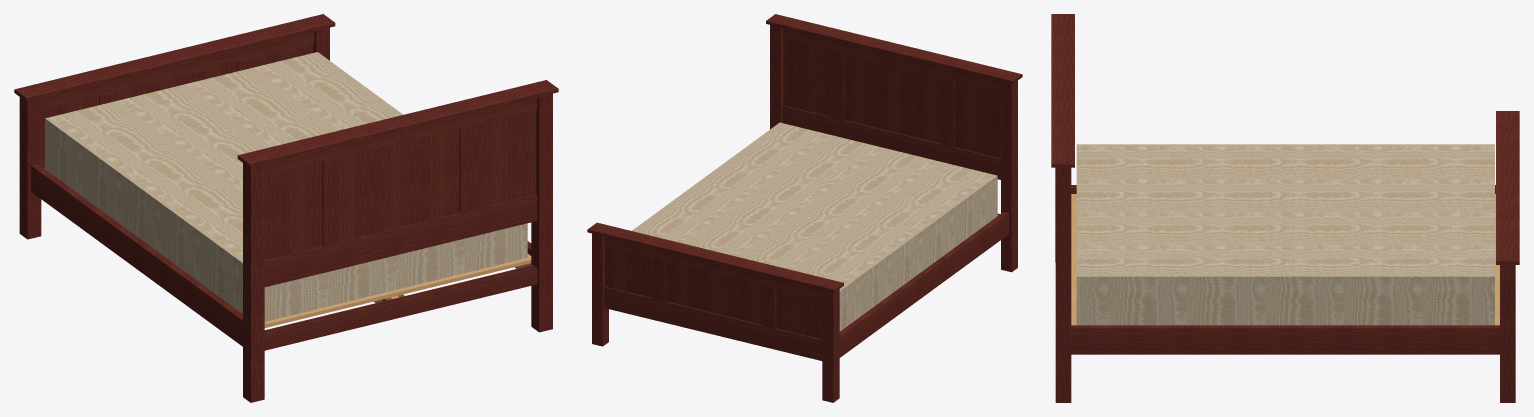
3 views of the same model, side by side, from view 1: azimuth 30°, elevation 25°; view 2: azimuth 150°, elevation 25°; view 3: azimuth 270°, elevation 25° (orthographic). The views are drawn at different scales.
Visible parts, largest first — view 1: mesh1_mesh1-geometry, mesh66_mesh66-geometry, mesh52_mesh52-geometry, mesh54_mesh54-geometry, mesh98_mesh98-geometry, mesh56_mesh56-geometry, mesh48_mesh48-geometry, mesh50_mesh50-geometry, mesh42_mesh42-geometry, mesh75_mesh75-geometry, mesh61_mesh61-geometry, mesh93_mesh93-geometry (+6 smaller); view 2: mesh1_mesh1-geometry, mesh52_mesh52-geometry, mesh91_mesh91-geometry, mesh66_mesh66-geometry, mesh98_mesh98-geometry, mesh54_mesh54-geometry, mesh87_mesh87-geometry, mesh93_mesh93-geometry, mesh48_mesh48-geometry, mesh75_mesh75-geometry, mesh42_mesh42-geometry, mesh50_mesh50-geometry (+8 smaller); view 3: mesh1_mesh1-geometry, mesh98_mesh98-geometry, mesh61_mesh61-geometry, mesh42_mesh42-geometry, mesh75_mesh75-geometry, mesh93_mesh93-geometry, mesh8_mesh8-geometry.
Part boxes in pixels (x1=…): mesh1_mesh1-geometry: x1=45, y1=52, x2=527, y2=321; mesh66_mesh66-geometry: x1=41, y1=31, x2=537, y2=350; mesh52_mesh52-geometry: x1=339, y1=129, x2=459, y2=241; mesh54_mesh54-geometry: x1=264, y1=194, x2=537, y2=287; mesh98_mesh98-geometry: x1=31, y1=164, x2=531, y2=346; mesh56_mesh56-geometry: x1=243, y1=163, x2=264, y2=402; mesh48_mesh48-geometry: x1=476, y1=110, x2=536, y2=208; mesh50_mesh50-geometry: x1=264, y1=162, x2=322, y2=259; mesh42_mesh42-geometry: x1=237, y1=80, x2=558, y2=167; mesh75_mesh75-geometry: x1=14, y1=14, x2=335, y2=101; mesh61_mesh61-geometry: x1=531, y1=93, x2=552, y2=332; mesh93_mesh93-geometry: x1=19, y1=27, x2=329, y2=239; mesh1_mesh1-geometry: x1=632, y1=122, x2=997, y2=331; mesh52_mesh52-geometry: x1=844, y1=53, x2=941, y2=143; mesh91_mesh91-geometry: x1=604, y1=286, x2=822, y2=360; mesh66_mesh66-geometry: x1=604, y1=28, x2=1000, y2=299; mesh98_mesh98-geometry: x1=839, y1=212, x2=1008, y2=357; mesh54_mesh54-geometry: x1=782, y1=105, x2=1000, y2=179; mesh87_mesh87-geometry: x1=666, y1=262, x2=762, y2=324; mesh93_mesh93-geometry: x1=592, y1=233, x2=839, y2=402; mesh48_mesh48-geometry: x1=783, y1=38, x2=831, y2=116; mesh75_mesh75-geometry: x1=587, y1=222, x2=843, y2=292; mesh42_mesh42-geometry: x1=766, y1=14, x2=1022, y2=83; mesh50_mesh50-geometry: x1=954, y1=80, x2=1000, y2=158; mesh1_mesh1-geometry: x1=1076, y1=144, x2=1494, y2=325; mesh98_mesh98-geometry: x1=1071, y1=185, x2=1499, y2=354; mesh61_mesh61-geometry: x1=1055, y1=167, x2=1071, y2=402; mesh42_mesh42-geometry: x1=1051, y1=14, x2=1074, y2=167; mesh75_mesh75-geometry: x1=1496, y1=111, x2=1519, y2=264; mesh93_mesh93-geometry: x1=1500, y1=265, x2=1515, y2=402; mesh8_mesh8-geometry: x1=1071, y1=194, x2=1076, y2=325.
Size of the model in its own units: 0.5509 by 0.4111 by 0.7263.
